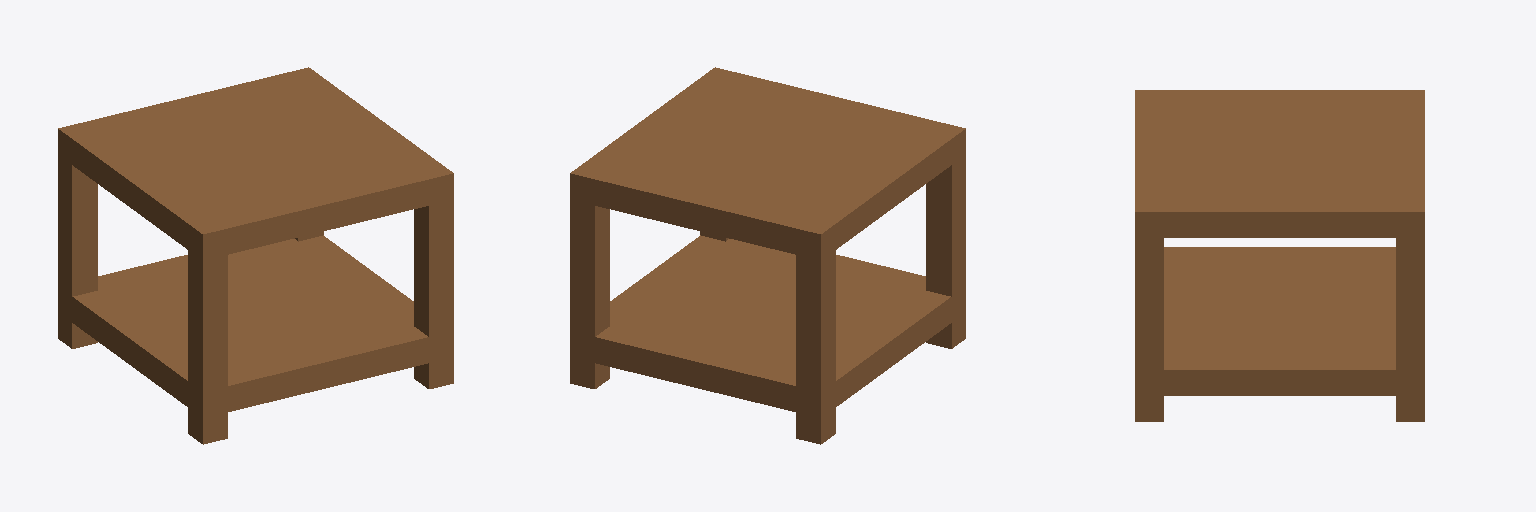
File: table_2.obj
3 views of the same model, side by side, from view 1: azimuth 30°, elevation 25°; view 2: azimuth 150°, elevation 25°; view 3: azimuth 270°, elevation 25° (orthographic).
Visible parts, largest first — view 1: ta_ble_mesh_Cube; view 2: ta_ble_mesh_Cube; view 3: ta_ble_mesh_Cube.
Part boxes in pixels (x1,y1,x2,y2): ta_ble_mesh_Cube: (58,67,453,444); ta_ble_mesh_Cube: (570,67,965,444); ta_ble_mesh_Cube: (1135,90,1424,421).
Bounding box in the file's own units: 0.75 × 0.6 × 0.75.